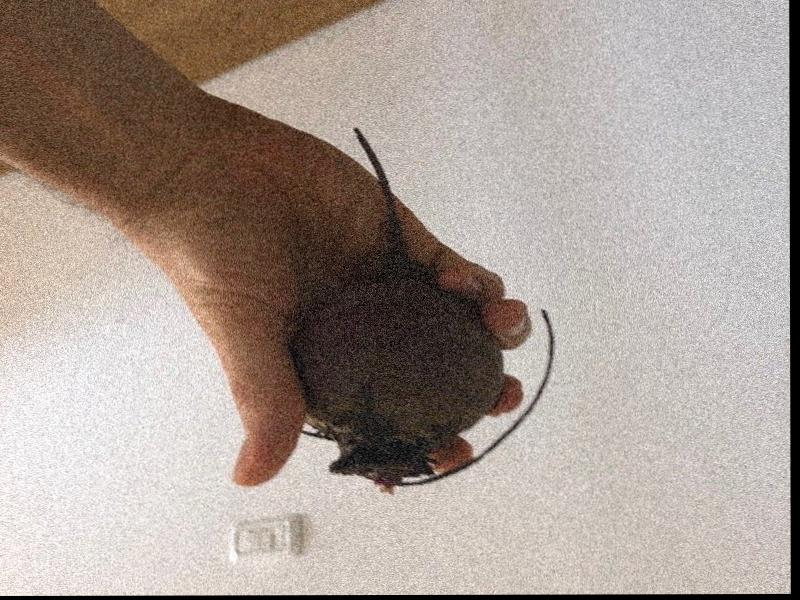Beet: (297, 128, 557, 492)
